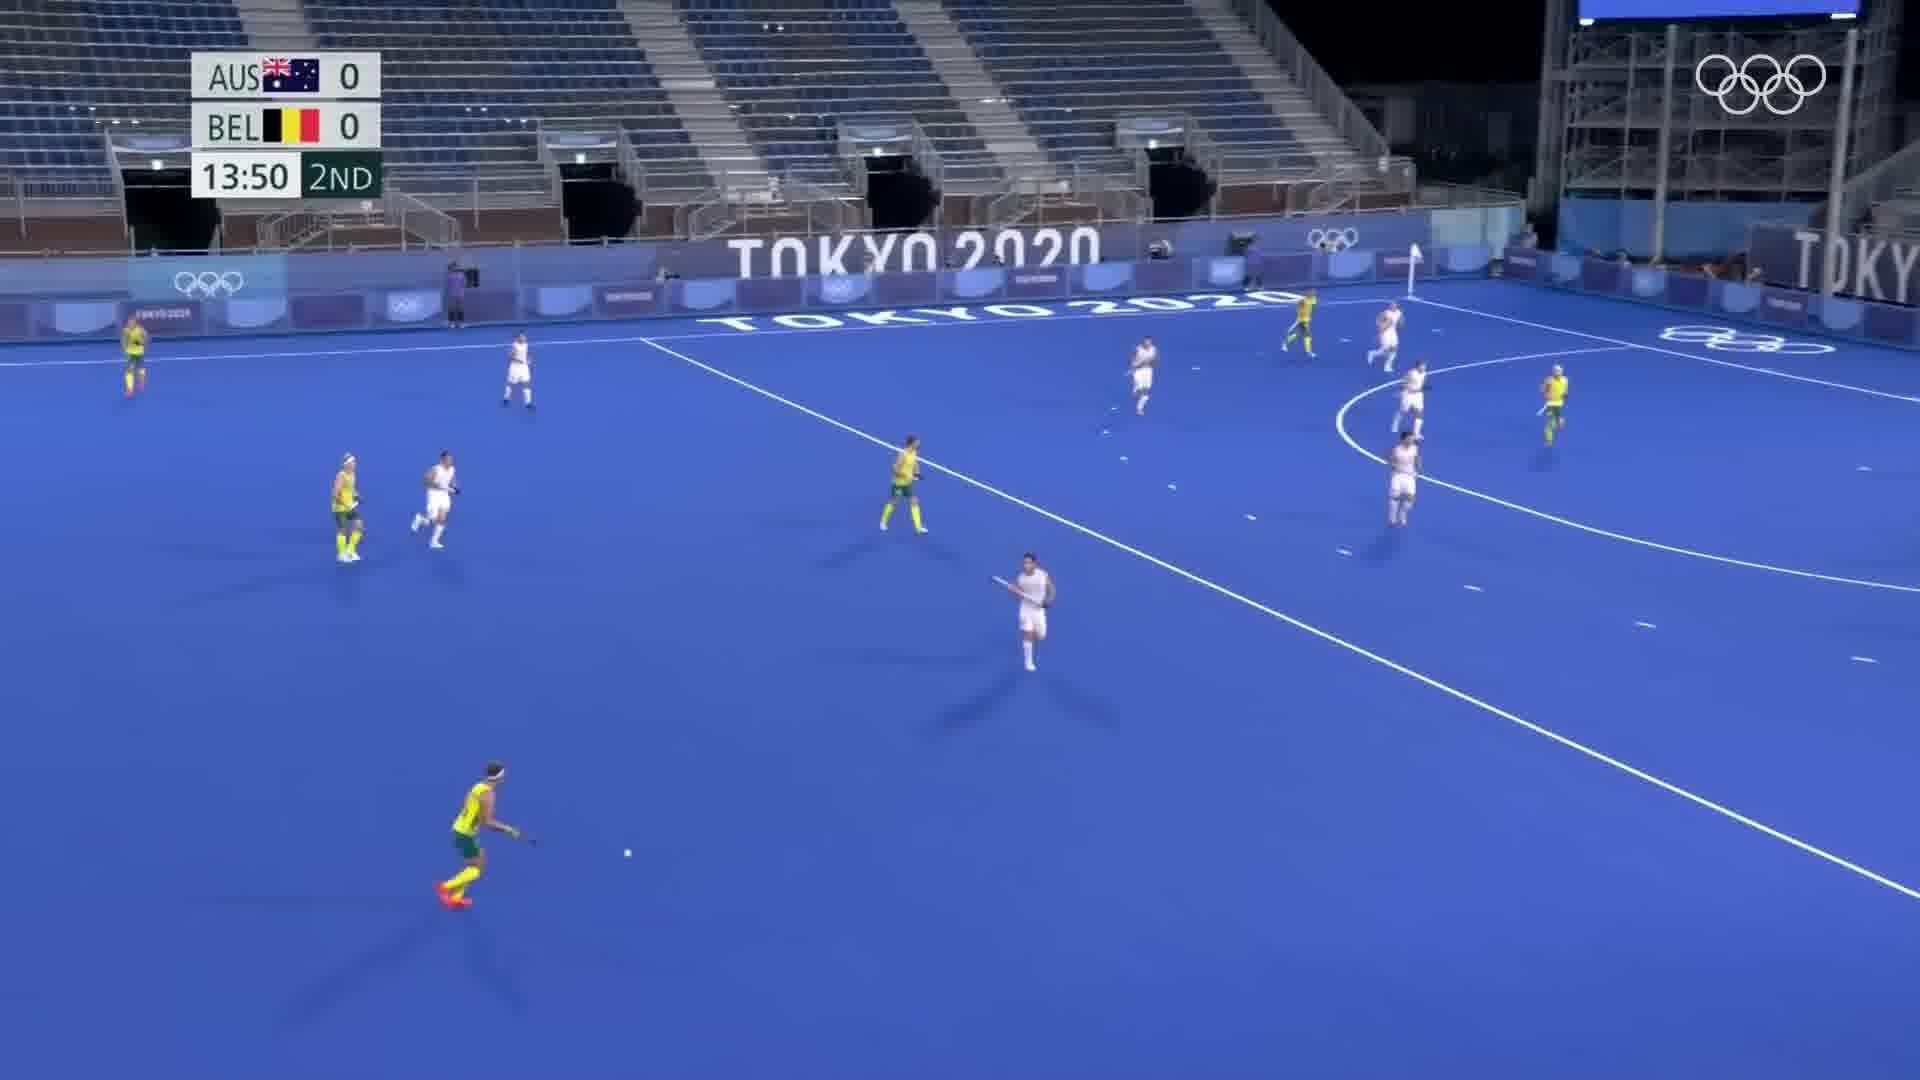ball: (611, 839, 644, 868)
